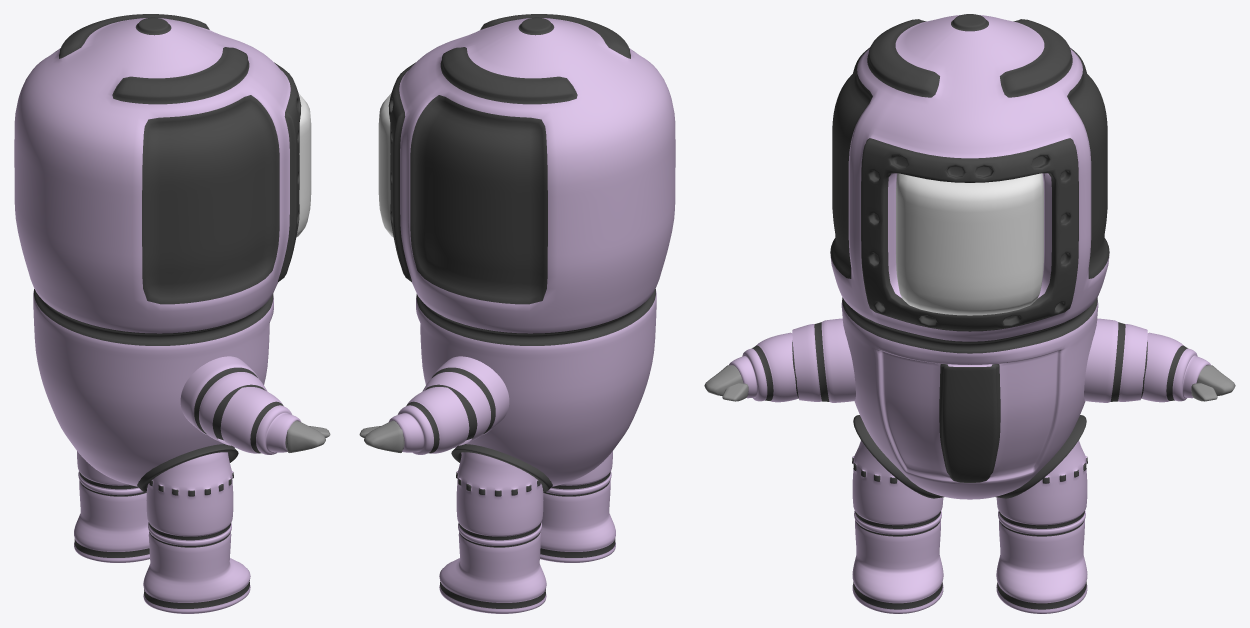
File: COSMO4.fbx
The picture shows the model from 3 angles, left to right: view 1: azimuth 30°, elevation 25°; view 2: azimuth 150°, elevation 25°; view 3: azimuth 270°, elevation 25°; orthographic projection. The views are drawn at different scales.
Visible parts, largest first — view 1: Circle, food.001, ruki.001, food, Circle.001; view 2: Circle, food, ruki, food.001, Circle.001; view 3: Circle, food, food.001, ruki, ruki.001, Circle.001.
Boxes of the visible parts, box(x1,y1,x2,y2) form: Circle: box(14, 14, 311, 486); food.001: box(143, 452, 250, 613); ruki.001: box(180, 356, 330, 454); food: box(74, 451, 149, 562); Circle.001: box(137, 444, 238, 492); Circle: box(378, 14, 675, 486); food: box(439, 452, 546, 613); ruki: box(359, 356, 509, 454); food.001: box(540, 451, 615, 562); Circle.001: box(451, 444, 552, 492); Circle: box(830, 14, 1109, 499); food: box(996, 440, 1087, 613); food.001: box(852, 440, 943, 613); ruki: box(1084, 318, 1235, 402); ruki.001: box(704, 318, 855, 402); Circle.001: box(853, 415, 1086, 498).
Size of the model in its own units: 107 by 211 by 179.
